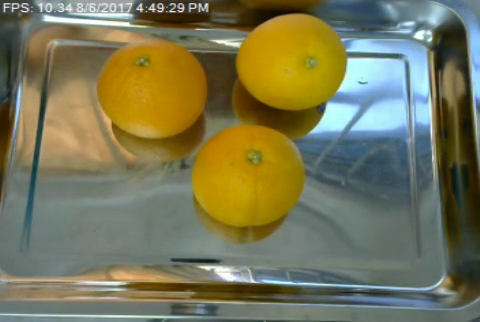Orange: (190, 125, 305, 227), (96, 40, 207, 138), (235, 11, 348, 107)
